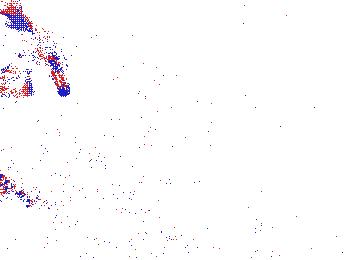glassfish: (83, 152, 189, 203)
redtail glassfish: (1, 1, 73, 99), (1, 65, 36, 103)
siberian prawn: (1, 170, 41, 212)
